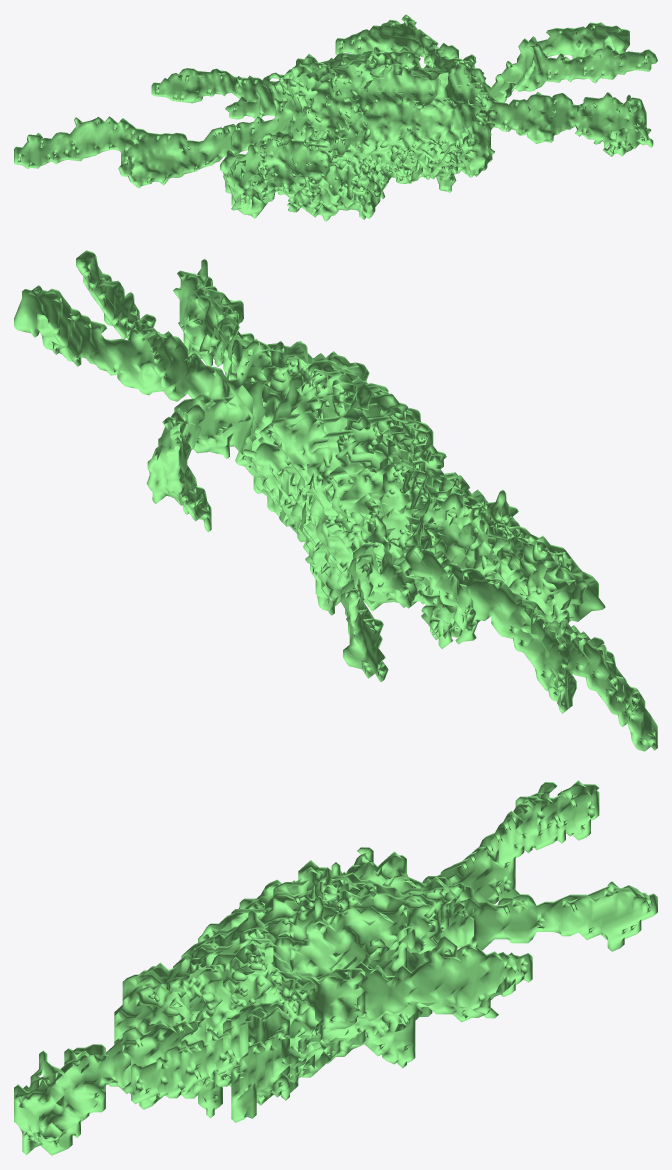
The model's file is osteocyte_108.glb.
The picture shows the model from 3 angles, top to bottom: view 1: azimuth 30°, elevation 25°; view 2: azimuth 150°, elevation 25°; view 3: azimuth 270°, elevation 25°; orthographic projection. The views are drawn at different scales.
Parts seen in each view (by area): view 1: osteocyte_108; view 2: osteocyte_108; view 3: osteocyte_108.
Boxes of the visible parts, x1=… form: osteocyte_108: x1=14, y1=14, x2=657, y2=221; osteocyte_108: x1=14, y1=250, x2=657, y2=751; osteocyte_108: x1=14, y1=780, x2=657, y2=1155.
Size of the model in its own units: 56.81 by 15.89 by 37.07.
